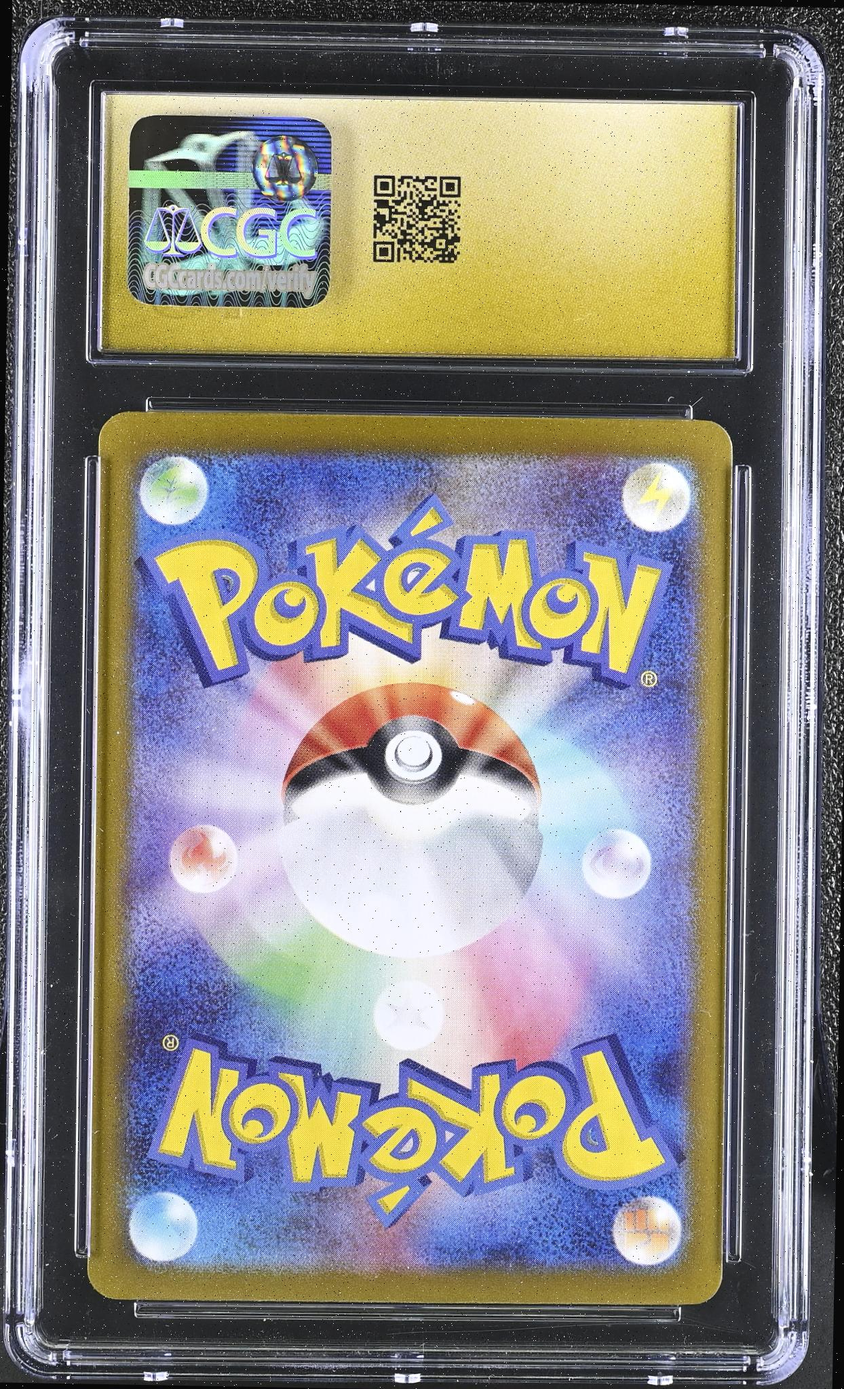card-2UtV: (87, 410, 733, 1305)
